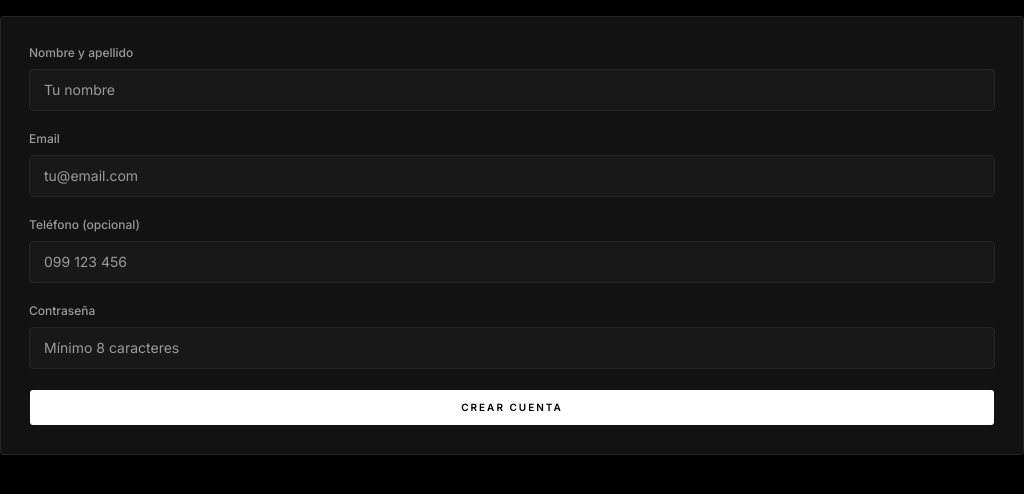
Test: RegisterForm › rejects a short password before submitting
This screenshot has width=1024, height=494.
Type "Ana Pérez" into the field labelled "Nombre y apellido".
click(512, 90); type("Ana Pérez")  # box [29,69,995,111]
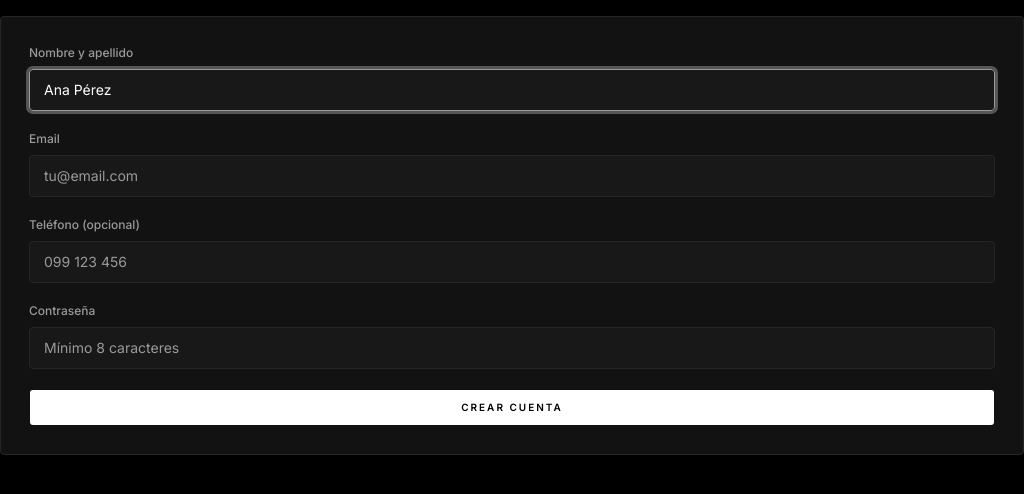
Type "ana@test.move" into the field labelled "Email".
click(512, 176); type("ana@test.move")  # box [29,155,995,197]
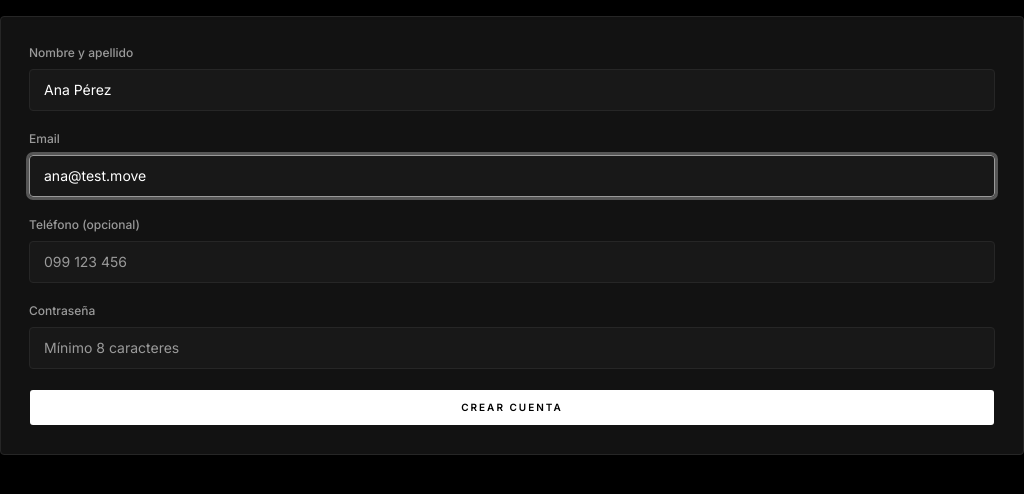
Type "12345" into the password field labelled "Contraseña".
click(512, 348); type("12345")  # box [29,327,995,369]
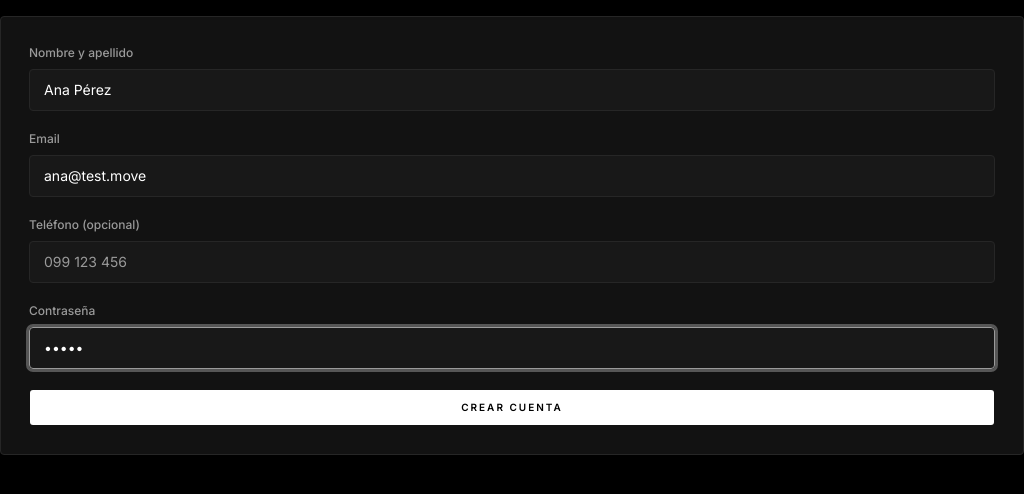
Click the button "Crear cuenta".
click(512, 408)  # box [29,389,995,426]
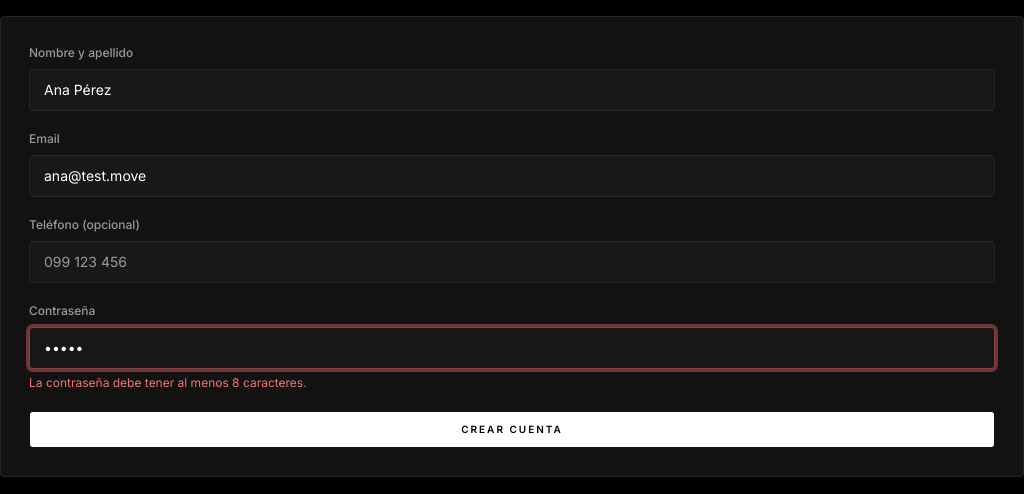
Expected: the text "La contraseña debe tener al menos 8 caracteres." is shown, [29,375,307,390]
